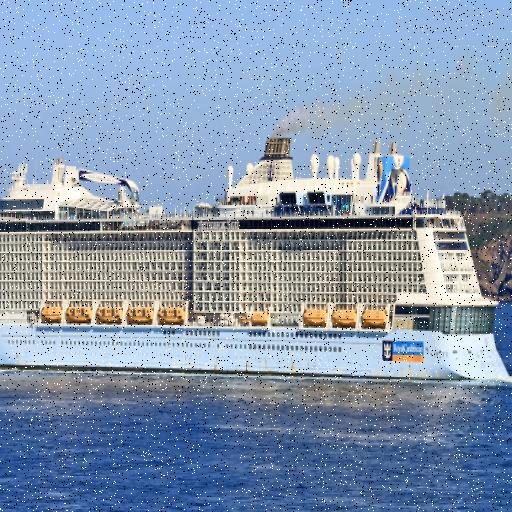cruises: (1, 131, 512, 395)
